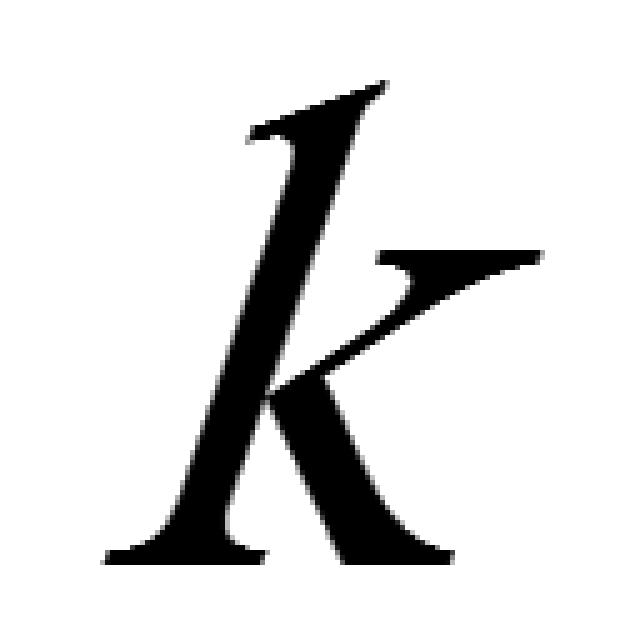K: (109, 70, 528, 589)
